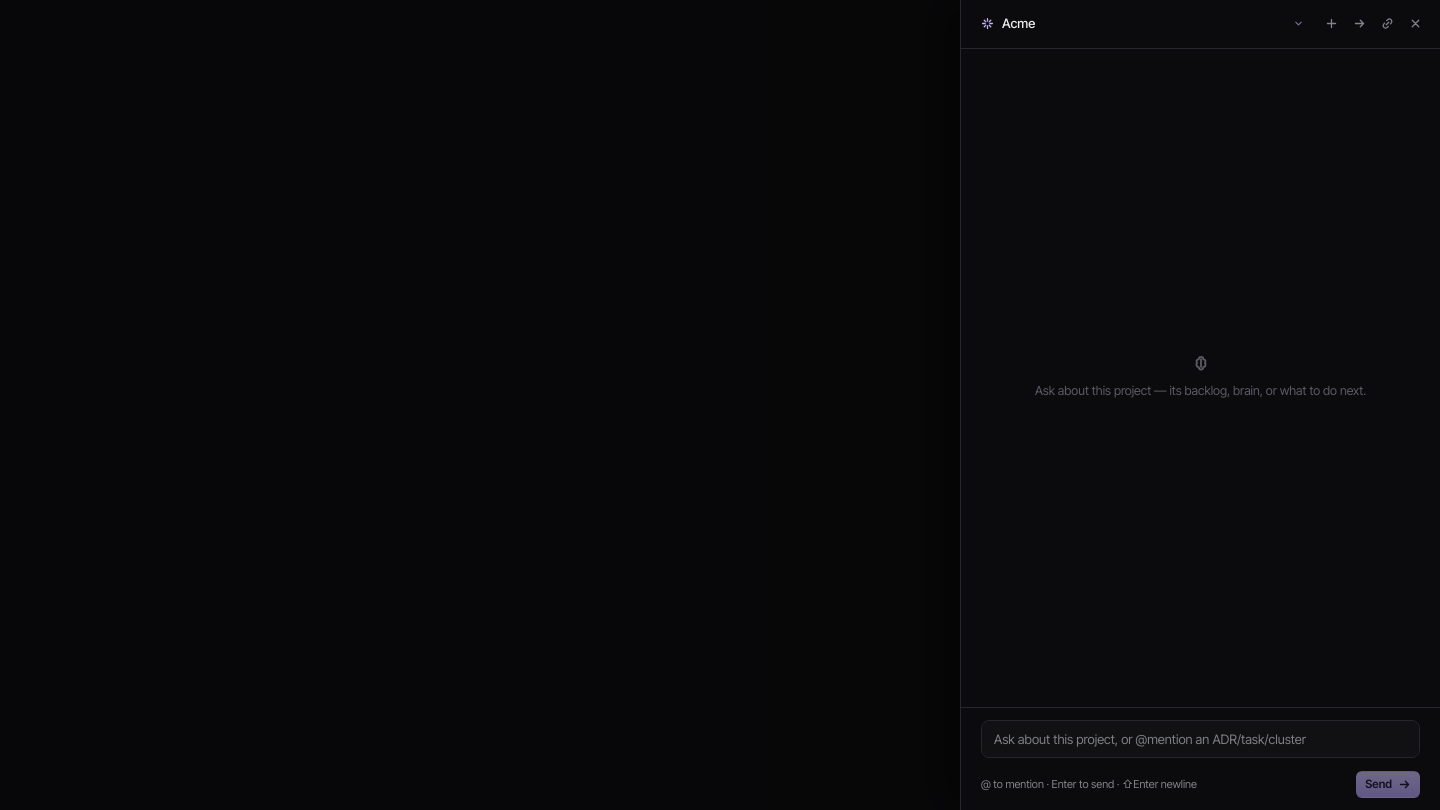
Test: AskDock › self-heals when the cached orchestrator was reaped (404 no session)
Type "status?" into the text box with placeholder "Ask about this project, or @mention an ADR/task/cluster" at x=1200, y=738, box [981, 720, 1420, 758]
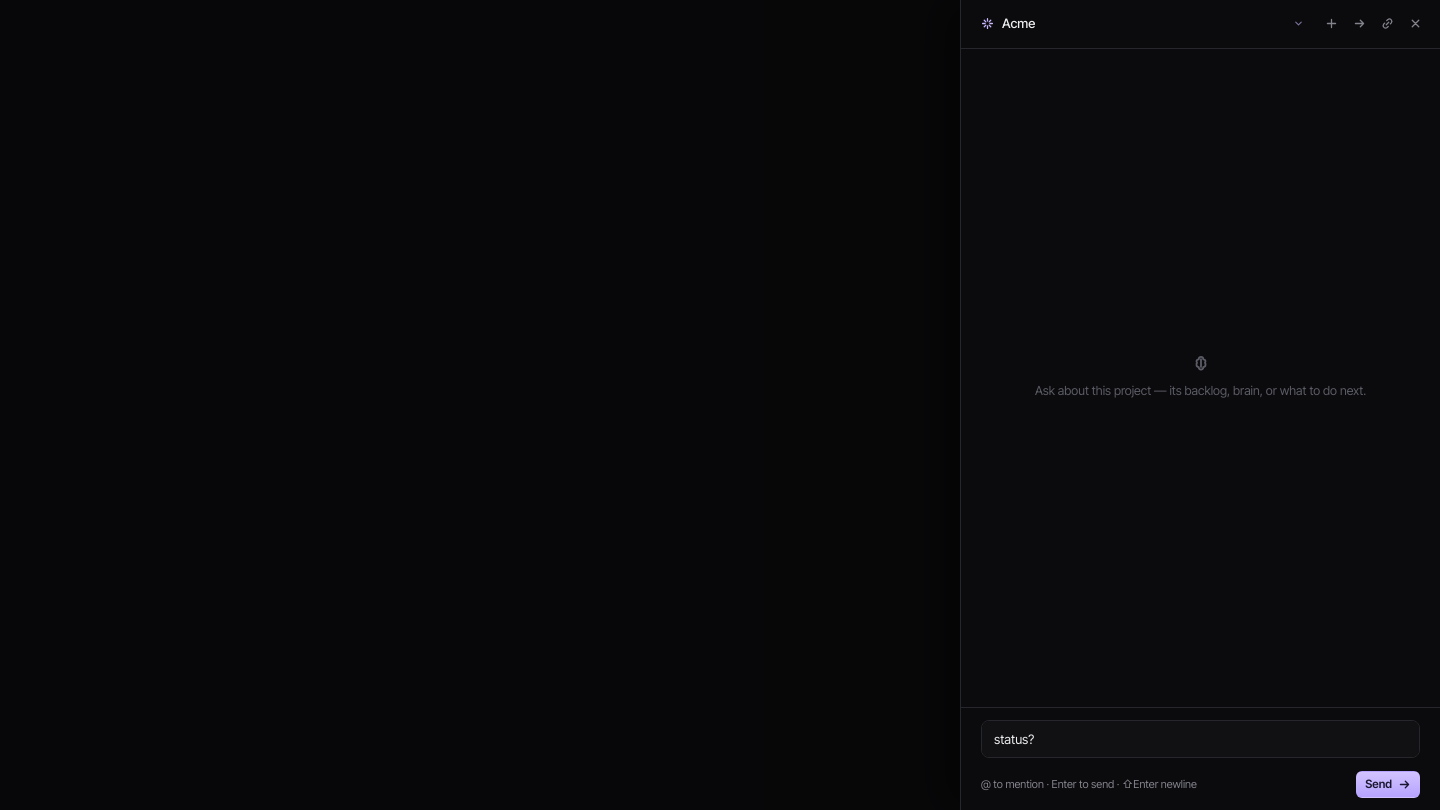
Click the button labelled "Send" at x=1388, y=784, box [1356, 771, 1420, 798]
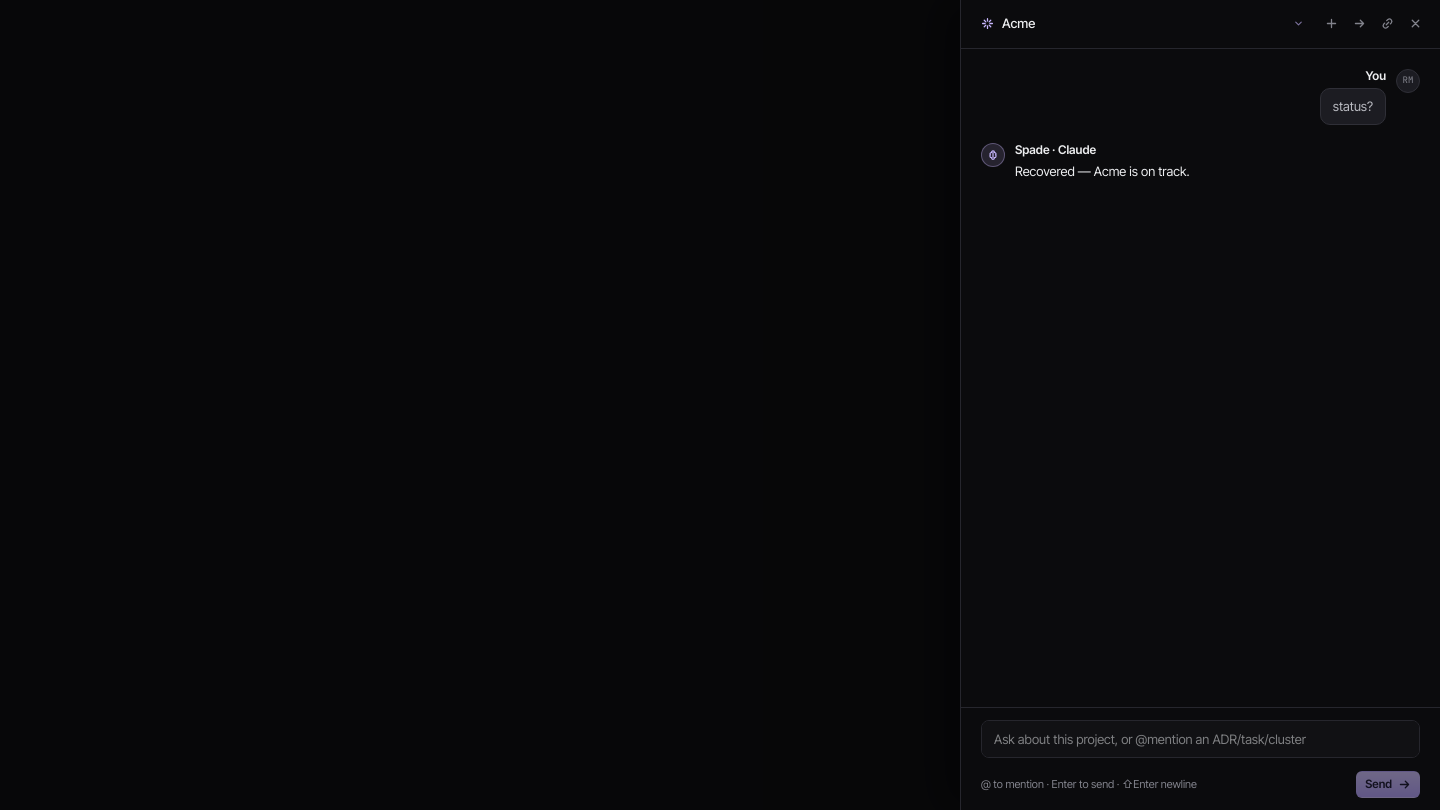
Check: the text "Recovered — Acme is on track." is shown, box [1015, 162, 1190, 182]
